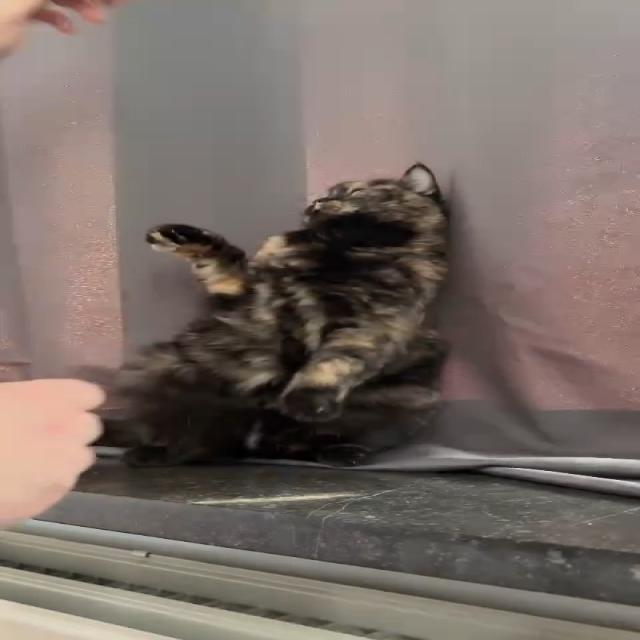authorized: (87, 161, 453, 468)
